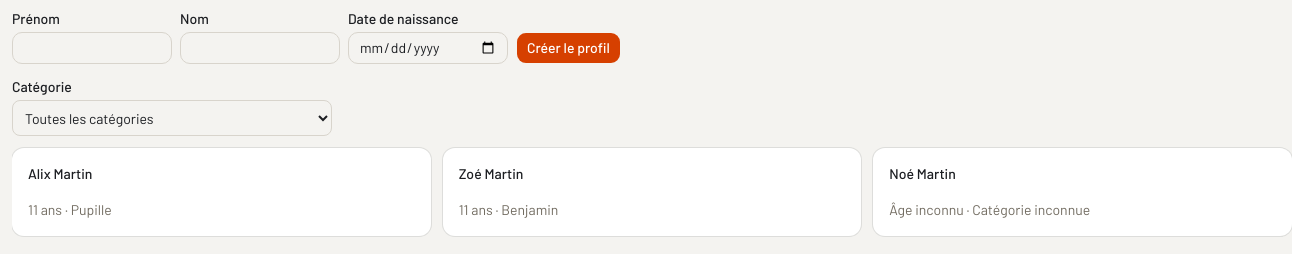
Scenario: ProfilesList › catégorie FFTri (#1291) › filtre la liste par catégorie
This screenshot has width=1292, height=254.
Check: the text "Zoé Martin" is shown, box [459,165,524,182]
Select "Pupille" in the dropdown labelled "Catégorie" at (172, 118), box [12,100,332,136]
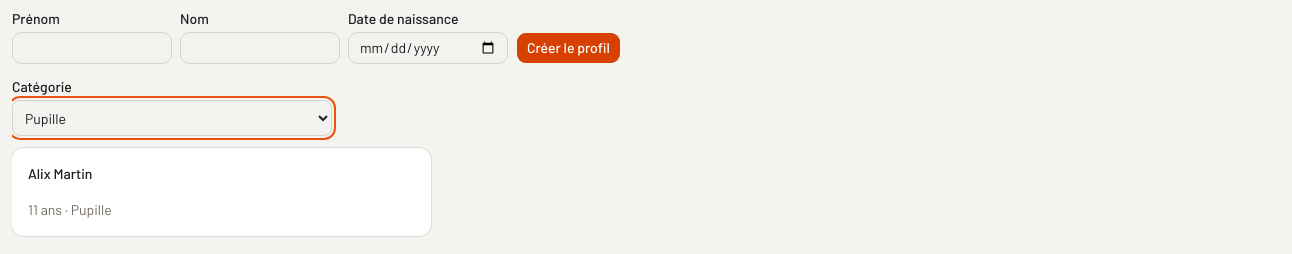
Check: the text "Alix Martin" is shown, box [28,165,92,182]
Check: the link "Zoé Martin" is gone
Check: the link "Noé Martin" is gone
